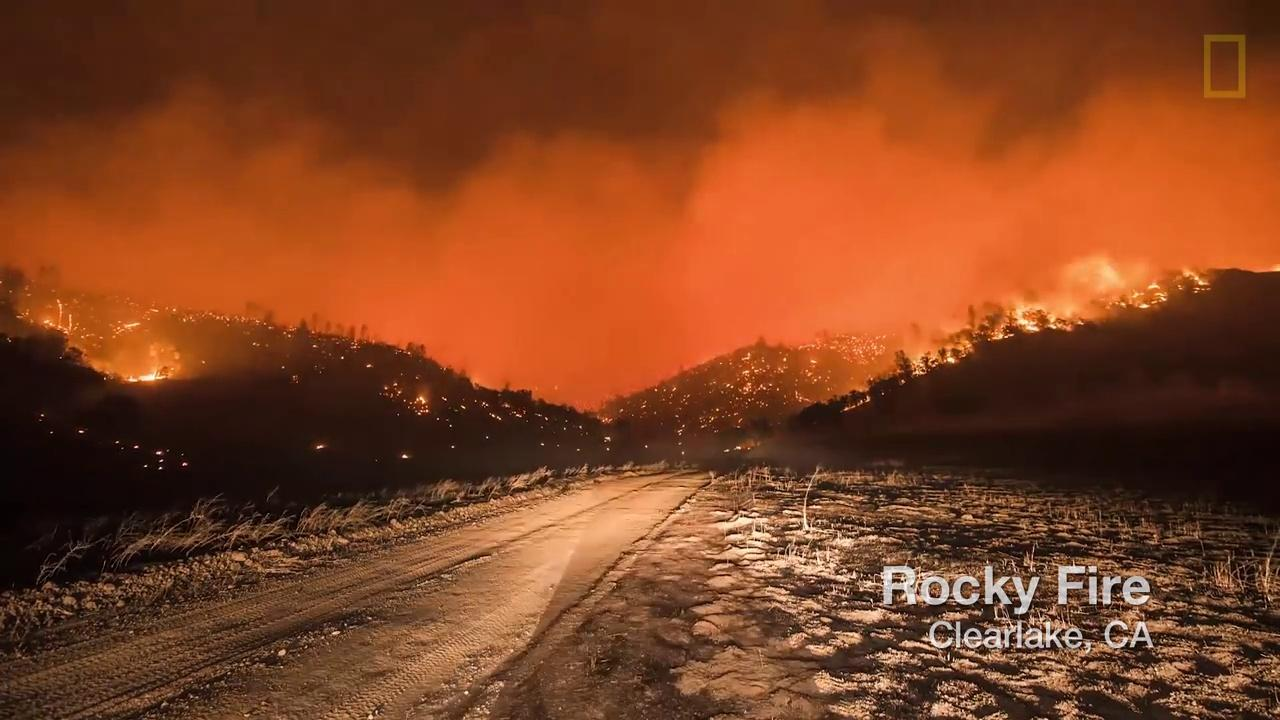Fire: (984, 238, 1211, 340), (703, 349, 788, 434), (900, 322, 967, 375), (109, 342, 180, 386), (800, 328, 887, 363), (43, 287, 88, 338), (386, 384, 434, 416)
